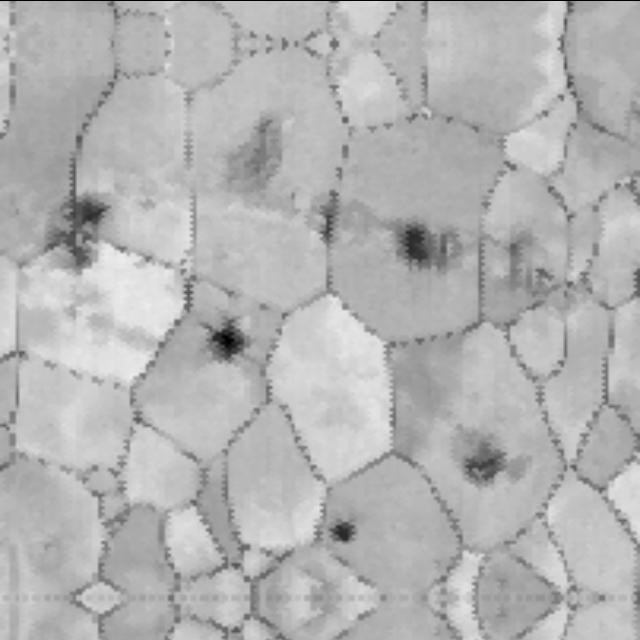good_void: (198, 106, 327, 234), (475, 221, 583, 323), (39, 183, 120, 282), (389, 215, 465, 283), (192, 310, 255, 373), (314, 185, 348, 249), (455, 446, 502, 489), (31, 523, 69, 563), (321, 518, 366, 548)
